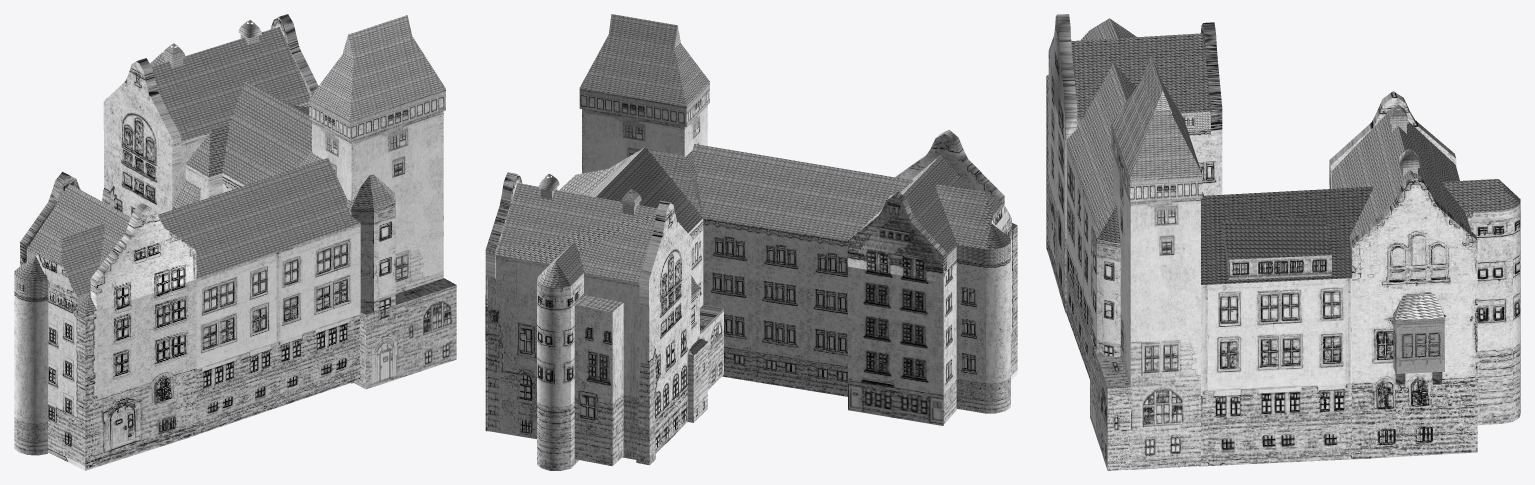
Rendered from 1Tillich-Bau.gltf.
3 views of the same model, side by side, from view 1: azimuth 30°, elevation 25°; view 2: azimuth 150°, elevation 25°; view 3: azimuth 270°, elevation 25° (orthographic). The views are drawn at different scales.
Parts seen in each view (by area): view 1: Dach.1; view 2: Dach.1; view 3: Dach.1.
Part boxes in pixels (box(x1,y1,x2,y2)): Dach.1: box(14, 14, 456, 470); Dach.1: box(485, 14, 1017, 470); Dach.1: box(1046, 14, 1520, 470).
Size of the model in its own units: 44.52 by 33.63 by 38.6.
26 materials, 26 textured.
